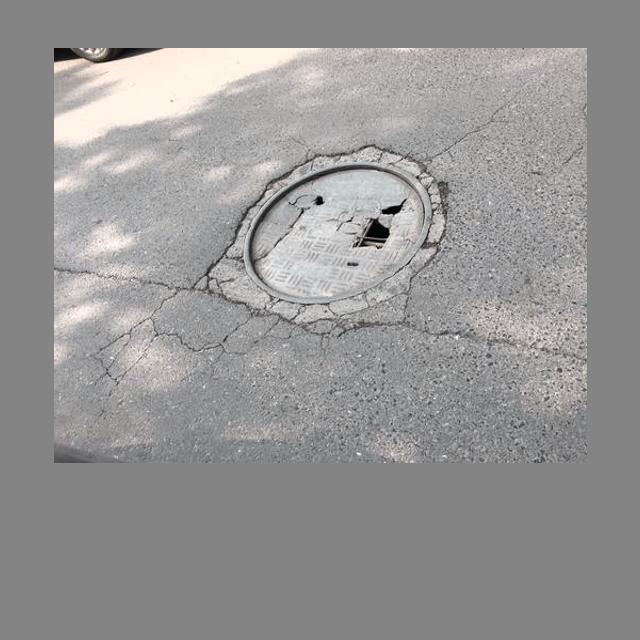broke: (207, 142, 450, 332)
